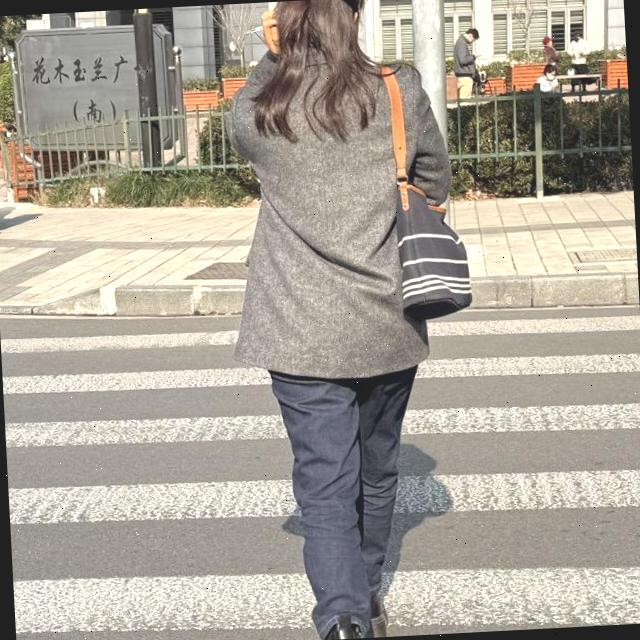curb: (0, 280, 243, 314), (474, 271, 639, 308)
